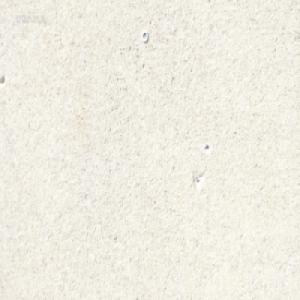Washer: (141, 30, 148, 43)
